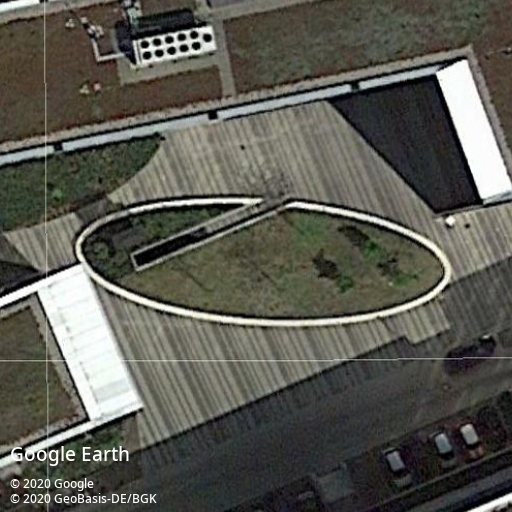Chiller: (131, 24, 218, 68)
